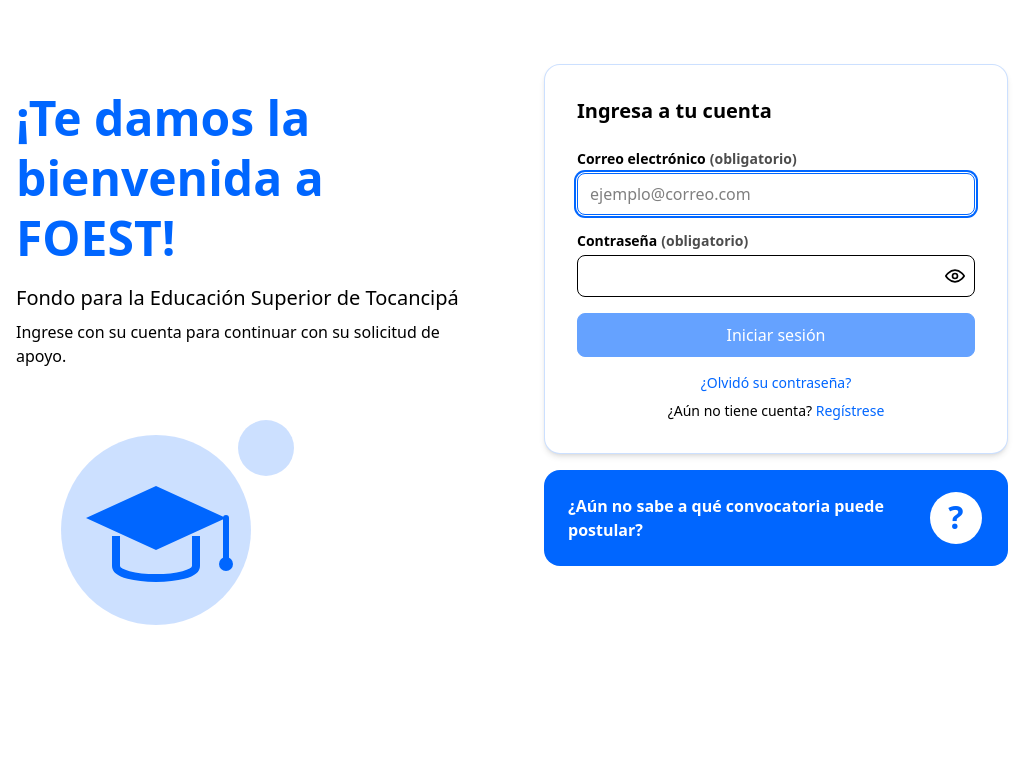
Scenario: LoginPage › muestra un mensaje generico ante credenciales invalidas (401)
Type "ben@foest.test" into the field labelled "Correo electrónico(obligatorio)".
click(776, 194); type("ben@foest.test")  # box [577,173,975,215]
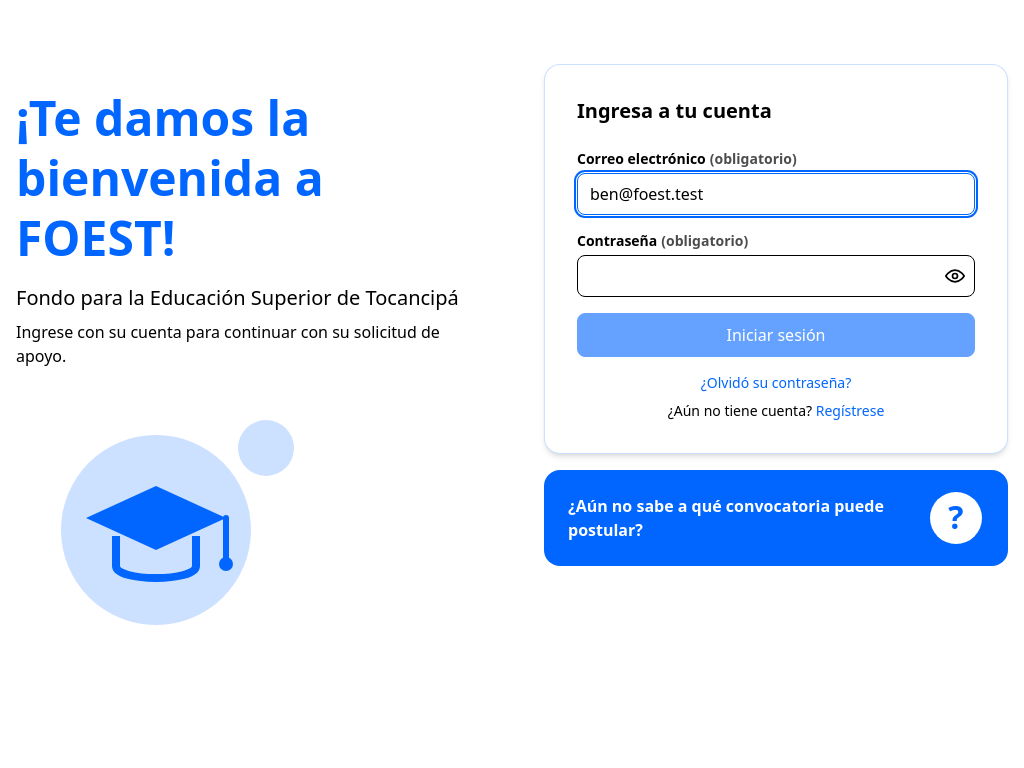
Type "Clave.Mala1" into the password field labelled "Contraseña(obligatorio)".
click(776, 276); type("Clave.Mala1")  # box [577,255,975,297]
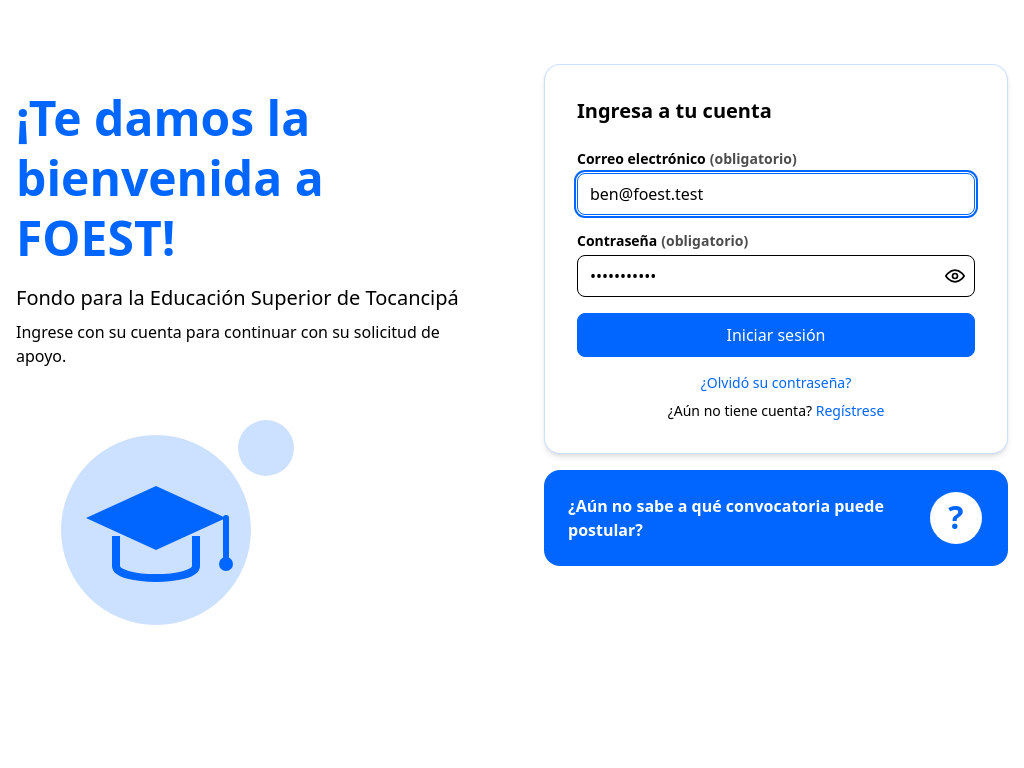
Click the button "Iniciar sesión".
click(776, 335)  # box [577,313,975,357]
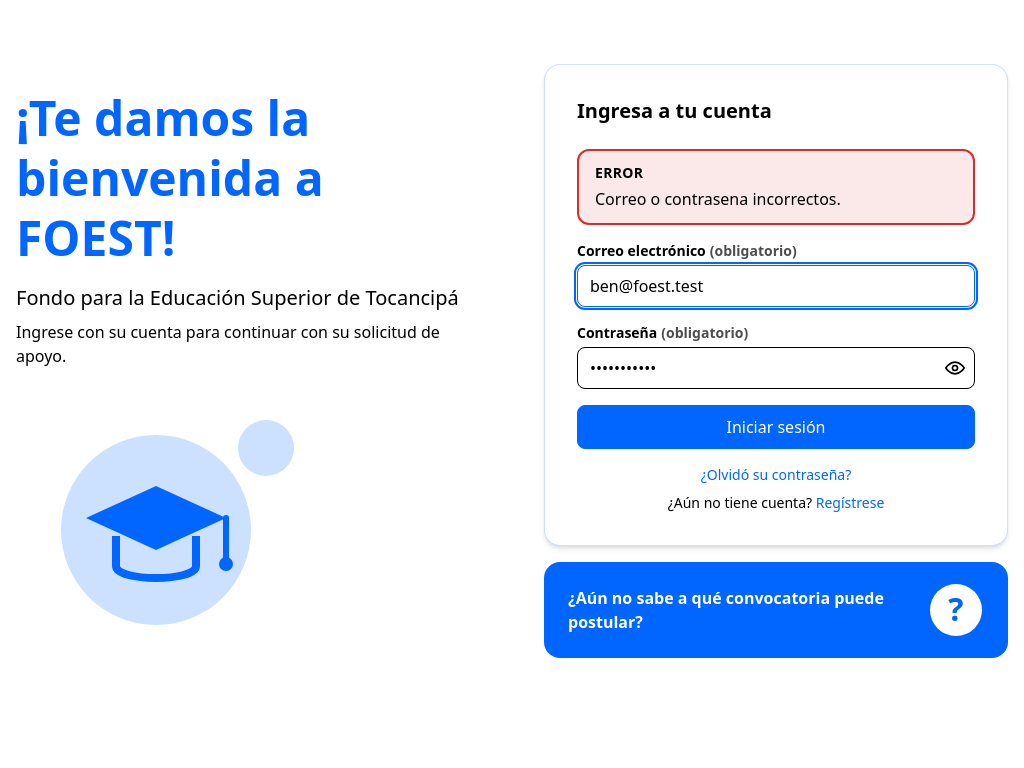
Expected: the text "Correo o contrasena incorrectos." is shown, [595,188,841,210]
